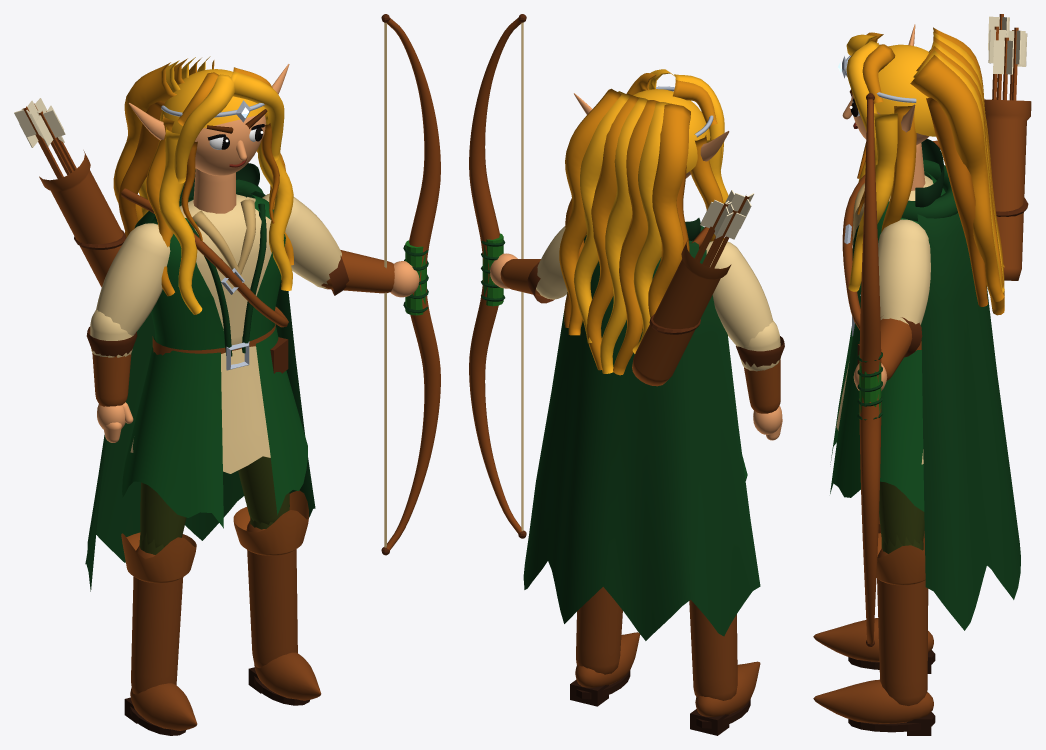
File: elf.glb
3 views of the same model, side by side, from view 1: azimuth 30°, elevation 25°; view 2: azimuth 150°, elevation 25°; view 3: azimuth 270°, elevation 25° (orthographic). The views are drawn at different scales.
Visible parts, largest first — view 1: hips_vest, cloak, armR_lower_bow, vest_torso, shin_-1_boot, shin_1_boot, armL_upper, hips_shirt, quiver, shirt_torso, armR_upper, head_lock_-1 (+29 smaller); view 2: cloak, armR_lower_bow, quiver, tail_lock_0, tail_lock_2, tail_lock_3, armL_upper, tail_lock_4, tail_lock_6, shin_-1_boot, tail_lock_1, tail_lock_5 (+17 smaller); view 3: cloak, hips_vest, armR_lower_bow, tail_lock_6, shin_1_boot, quiver, armR_upper, tail_lock_side_1, shin_1_foot, head_hair_cap, head_lock_1, thigh_1 (+19 smaller).
Part boxes in pixels (x1,y1,x2,y2): hips_vest: (122, 322, 307, 528); cloak: (85, 191, 315, 591); armR_lower_bow: (386, 18, 440, 549); vest_torso: (151, 191, 285, 350); shin_-1_boot: (131, 546, 183, 694); shin_1_boot: (246, 521, 297, 668); armL_upper: (96, 223, 170, 335); hips_shirt: (130, 346, 270, 473); quiver: (39, 150, 123, 287); shirt_torso: (179, 194, 271, 345); armR_upper: (262, 193, 341, 288); head_lock_-1: (159, 127, 202, 314); cloak: (523, 235, 760, 640); armR_lower_bow: (469, 17, 521, 533); quiver: (632, 240, 731, 386); tail_lock_0: (648, 103, 690, 318); tail_lock_2: (613, 100, 659, 375); tail_lock_3: (600, 97, 648, 373); armL_upper: (706, 240, 772, 347); tail_lock_4: (586, 93, 638, 370); tail_lock_6: (559, 88, 621, 335); shin_-1_boot: (689, 600, 737, 700); tail_lock_1: (632, 102, 670, 353); tail_lock_5: (574, 91, 629, 342); cloak: (917, 213, 1020, 630); hips_vest: (830, 323, 924, 511); armR_lower_bow: (859, 99, 881, 644); tail_lock_6: (910, 55, 1004, 301); shin_1_boot: (877, 548, 928, 705); quiver: (984, 99, 1031, 280); armR_upper: (878, 219, 930, 324); tail_lock_side_1: (926, 97, 988, 306); shin_1_foot: (813, 679, 933, 723); head_hair_cap: (875, 44, 935, 136); head_lock_1: (848, 112, 897, 291); thigh_1: (879, 481, 924, 546).
Bounding box in the file's own units: 2.78 × 4.93 × 1.43.
